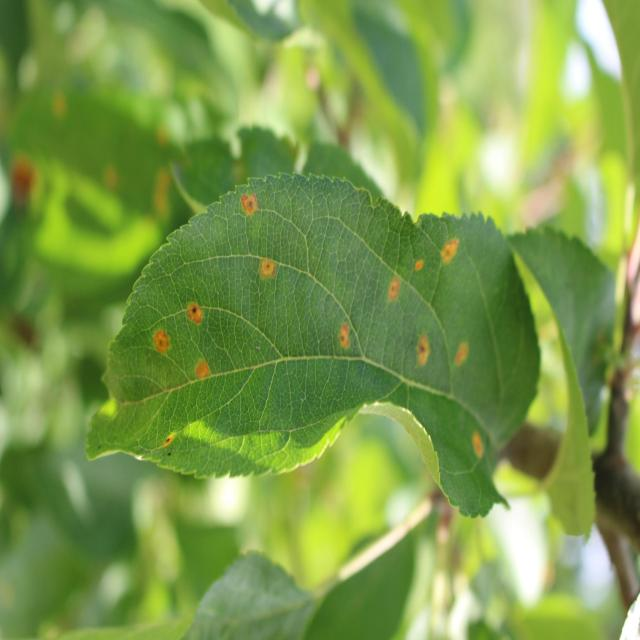Rust: (436, 220, 471, 288), (332, 305, 362, 373), (444, 336, 482, 385), (410, 331, 442, 388), (186, 346, 223, 394), (466, 428, 495, 482), (382, 268, 410, 318), (152, 419, 186, 460), (234, 179, 267, 220), (177, 288, 210, 329), (254, 248, 284, 291), (144, 322, 176, 360), (408, 249, 430, 285)
